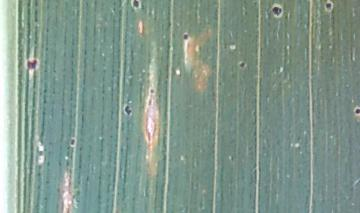tarspot: (25, 59, 37, 70), (272, 6, 282, 17), (124, 105, 132, 117), (69, 138, 76, 148), (325, 1, 332, 10), (132, 1, 140, 8), (182, 33, 189, 41), (238, 62, 246, 69), (148, 88, 156, 94), (354, 107, 360, 115)
